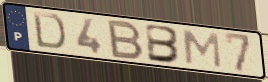4: (75, 17, 104, 56)
7: (223, 30, 253, 74)
B: (145, 22, 184, 65), (107, 19, 146, 61)
D: (31, 10, 68, 52)
M: (181, 28, 223, 70)
